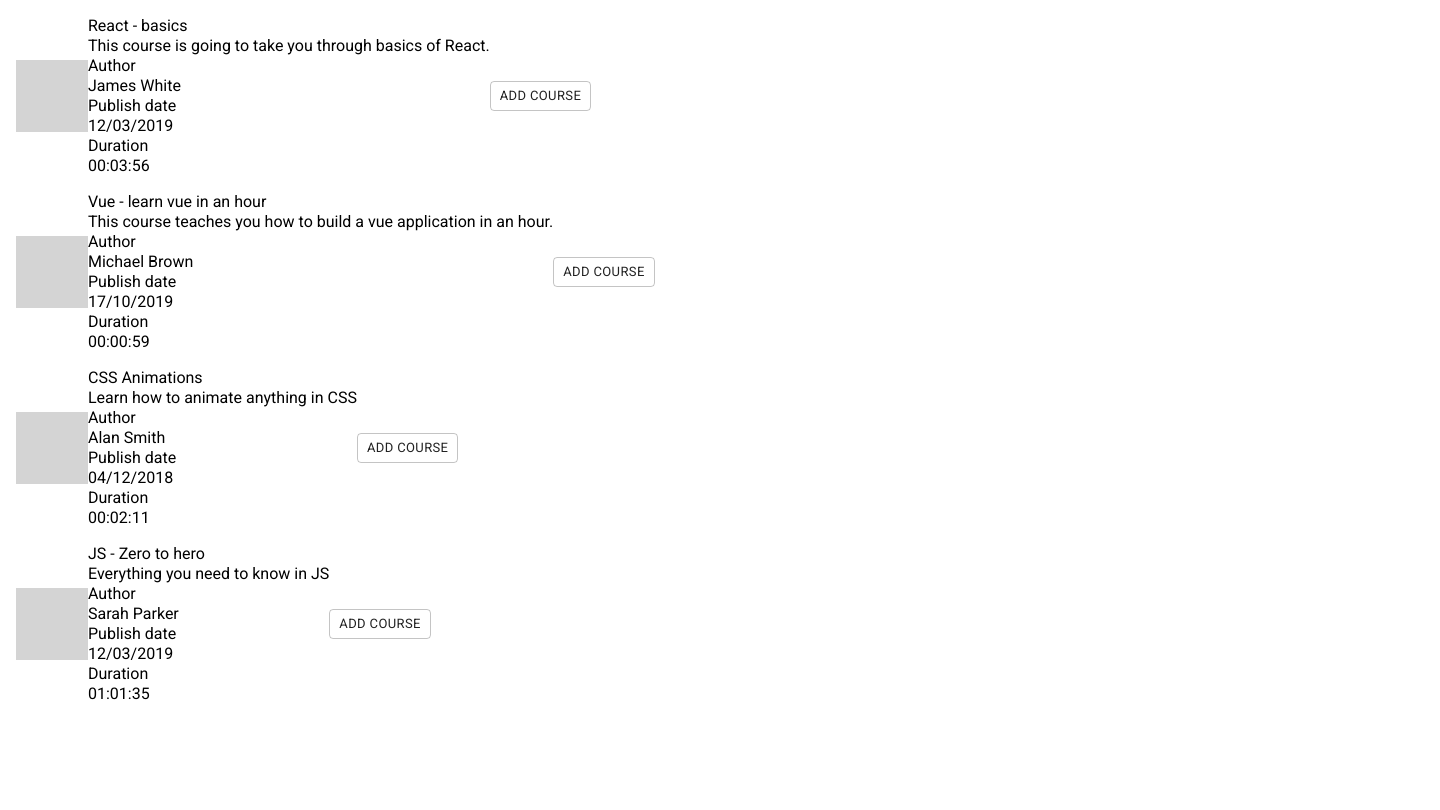
authentication popup is rendered
The width and height of the screenshot is (1440, 810).
Click the button "Add course" in the row of "James White" at (540, 96), box [490,81,591,111]
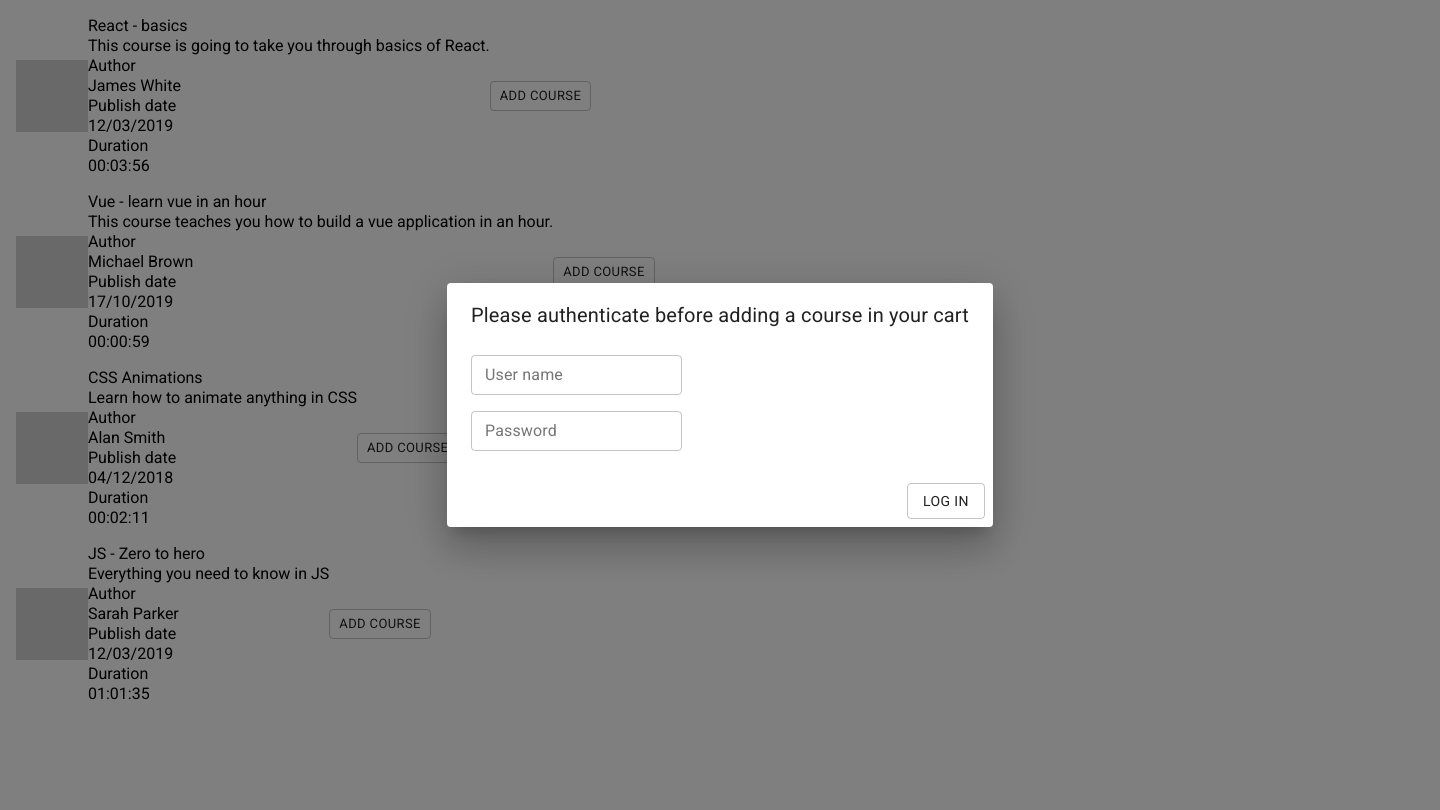
Result: the heading "Please authenticate before adding a course in your cart" is shown at [471,299,969,331]
